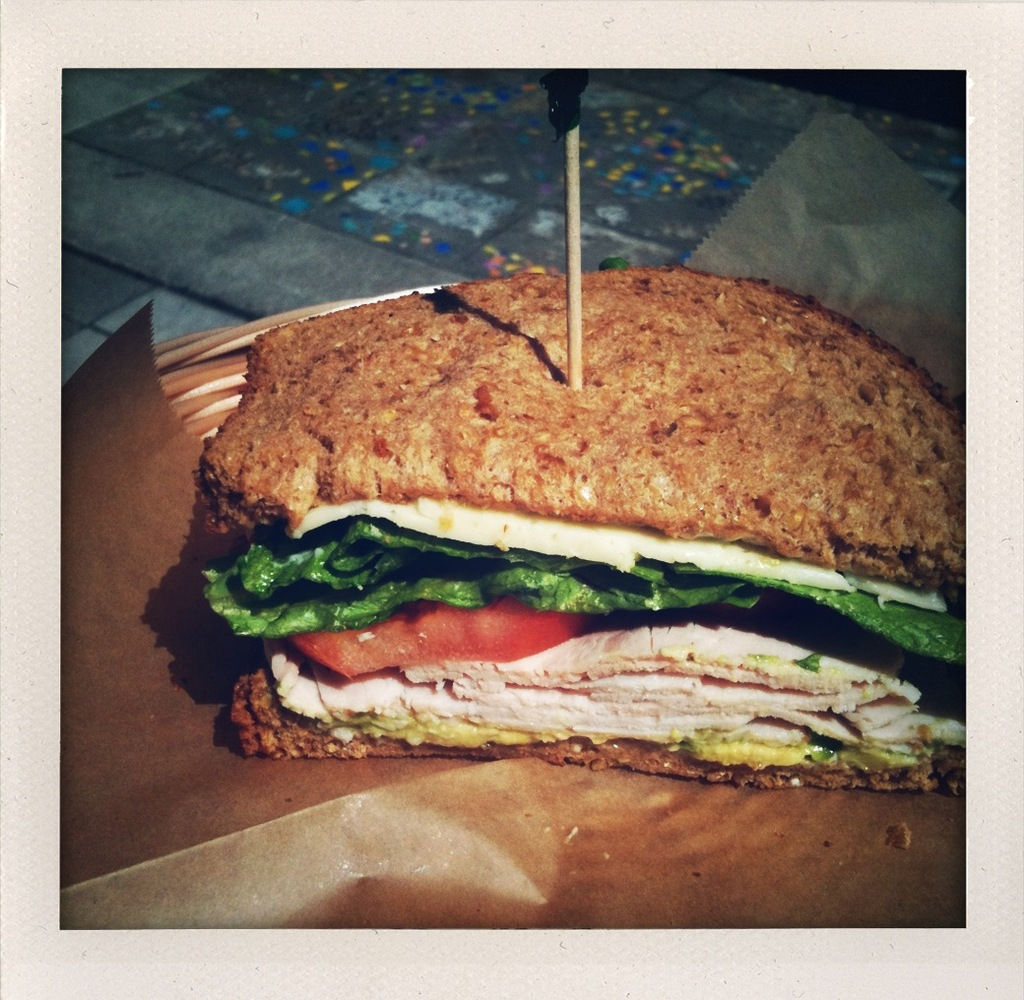sandwich: (204, 261, 968, 794)
